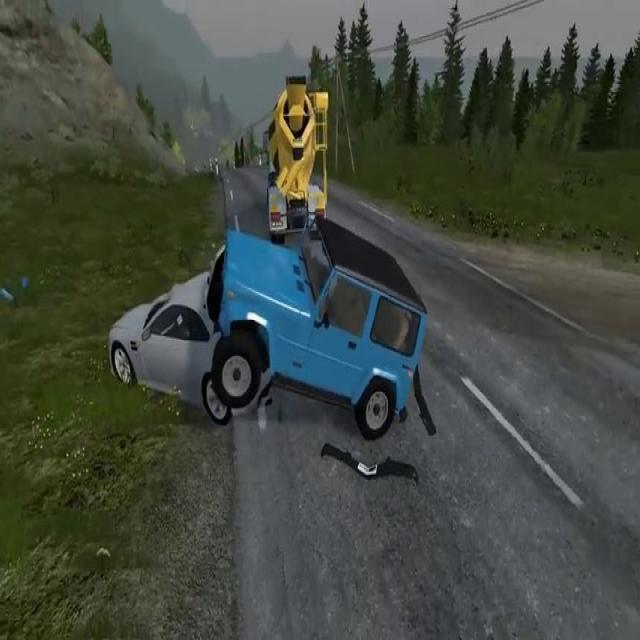accident: (105, 202, 433, 438)
